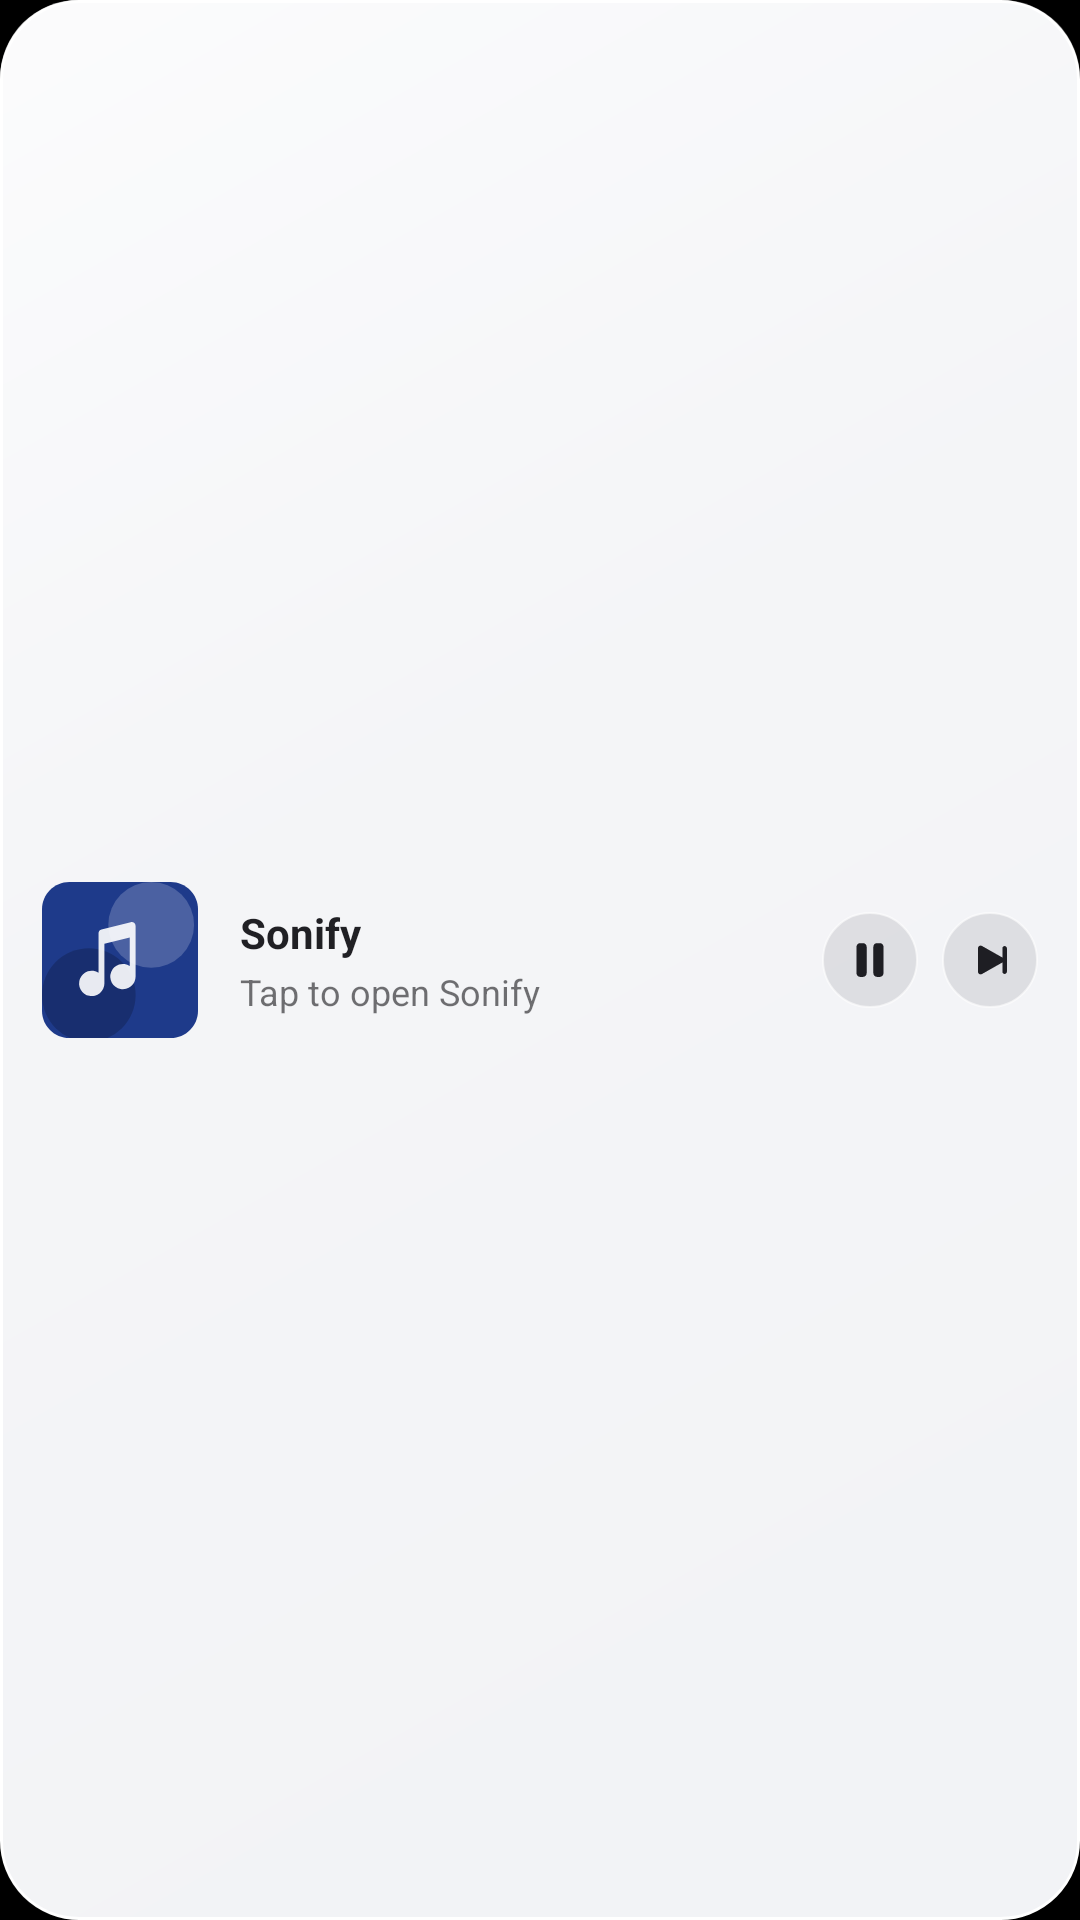

Icon bounding boxes for this 1080px×1920px phone screenshot, format (x1, y1, x2, y2):
Next track: (978, 945, 1007, 975)
Play or pause: (856, 943, 884, 977)
